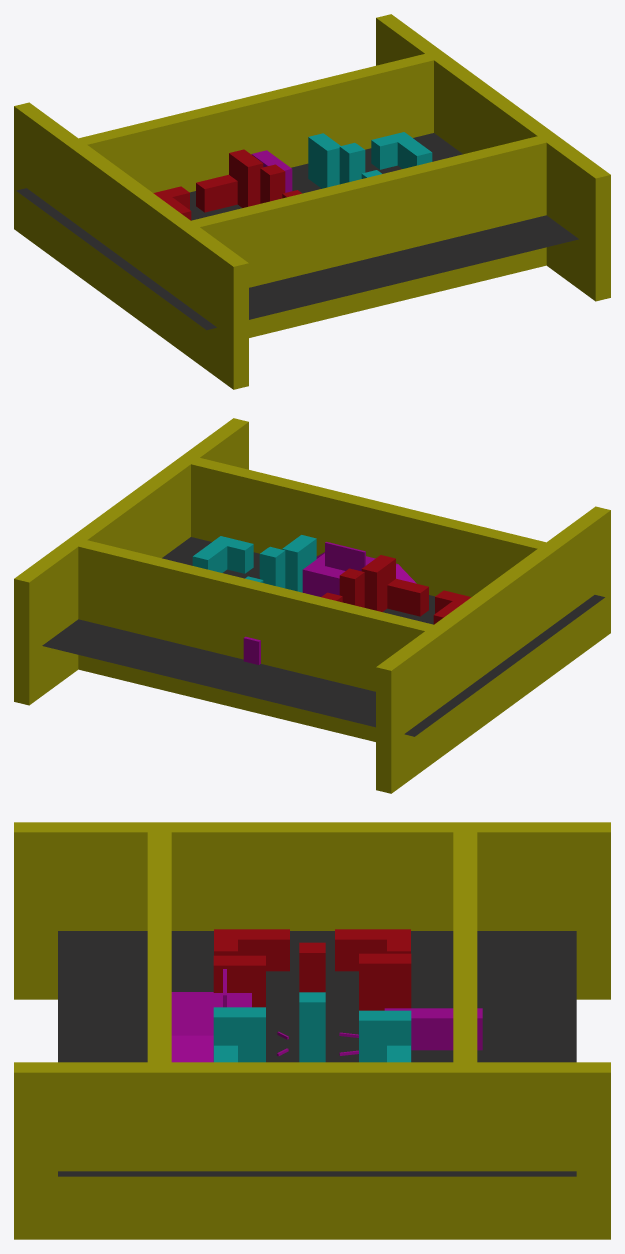
The model's file is map.glb.
3 views of the same model, one above another, from view 1: azimuth 30°, elevation 25°; view 2: azimuth 150°, elevation 25°; view 3: azimuth 270°, elevation 25° (orthographic). The views are drawn at different scales.
Visible parts, largest first — view 1: Cube.013, Cube.022, Plane, Cube.020, Cube.027, Cube.004, Cube.011, Cube.029, Cube.006, Cube.003, Cube.030, Cube.031 (+5 smaller); view 2: Cube.004, Cube.027, Plane, Cube.022, Cube.029, Cube.013, Cube.006, Cube.020, Cube.011, Cube.019, Cube.014, Cube.018 (+6 smaller); view 3: Cube.011, Cube.006, Plane, Cube.022, Cube.027, Cube.020, Cube.004, Cube.013, Cube.029, Cube.030, Cube.014, Cube.003 (+12 smaller).
Boxes of the visible parts, <box> form: Cube.013: <box>366,132,556,307</box>; Cube.022: <box>123,183,248,389</box>; Plane: <box>16,133,578,330</box>; Cube.020: <box>176,178,374,337</box>; Cube.027: <box>14,102,138,308</box>; Cube.004: <box>250,50,448,167</box>; Cube.011: <box>486,94,610,301</box>; Cube.029: <box>65,96,261,192</box>; Cube.006: <box>376,14,500,154</box>; Cube.003: <box>308,133,340,188</box>; Cube.030: <box>229,149,263,207</box>; Cube.031: <box>196,174,237,212</box>; Cube.004: <box>63,536,261,711</box>; Cube.027: <box>376,587,501,793</box>; Plane: <box>42,537,604,736</box>; Cube.022: <box>486,506,610,712</box>; Cube.029: <box>251,583,448,741</box>; Cube.013: <box>176,454,374,556</box>; Cube.006: <box>14,498,138,705</box>; Cube.020: <box>363,500,561,596</box>; Cube.011: <box>124,418,248,558</box>; Cube.019: <box>361,555,395,611</box>; Cube.014: <box>282,535,316,592</box>; Cube.018: <box>387,578,428,616</box>; Cube.011: <box>14,1062,312,1239</box>; Cube.006: <box>312,1062,610,1239</box>; Plane: <box>58,931,576,1176</box>; Cube.022: <box>14,822,312,999</box>; Cube.027: <box>312,822,610,999</box>; Cube.020: <box>147,822,171,948</box>; Cube.004: <box>453,948,477,1072</box>; Cube.013: <box>147,948,171,1072</box>; Cube.029: <box>453,822,477,948</box>; Cube.030: <box>359,953,411,1010</box>; Cube.014: <box>213,1007,265,1062</box>; Cube.003: <box>359,1010,411,1062</box>.
Bounding box in the file's own units: 84.98 × 25.19 × 81.54.
